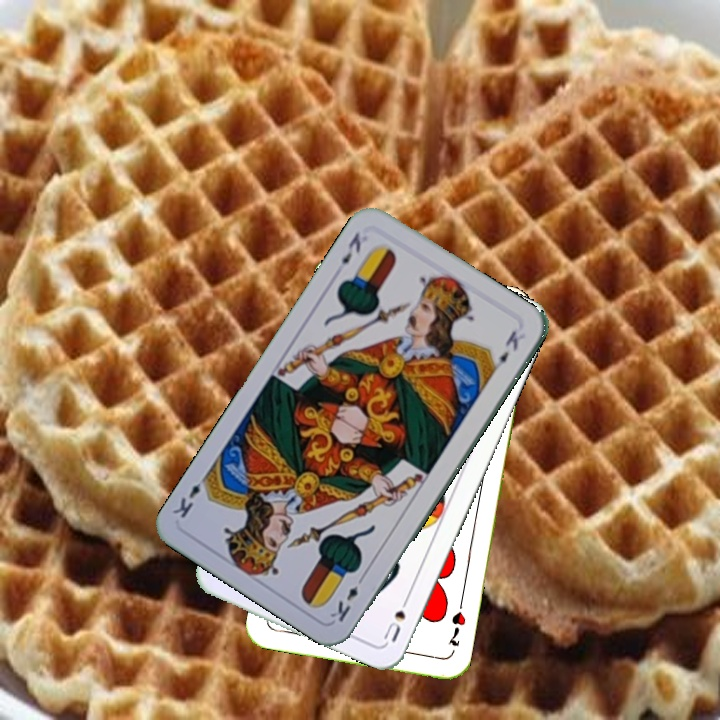EK: (326, 570, 368, 625), (337, 228, 364, 267)
H7: (444, 607, 469, 649)
SU: (379, 589, 414, 645)
